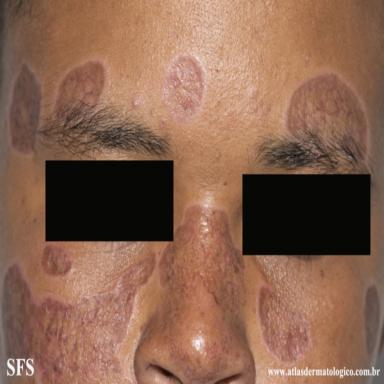Lupus-Erythematosus-Chronicus-Discoides: (3, 253, 155, 383), (160, 205, 244, 299), (287, 74, 367, 157), (259, 285, 311, 362), (163, 53, 205, 122), (54, 61, 105, 116), (10, 63, 41, 153), (365, 285, 380, 358), (41, 245, 72, 276)
